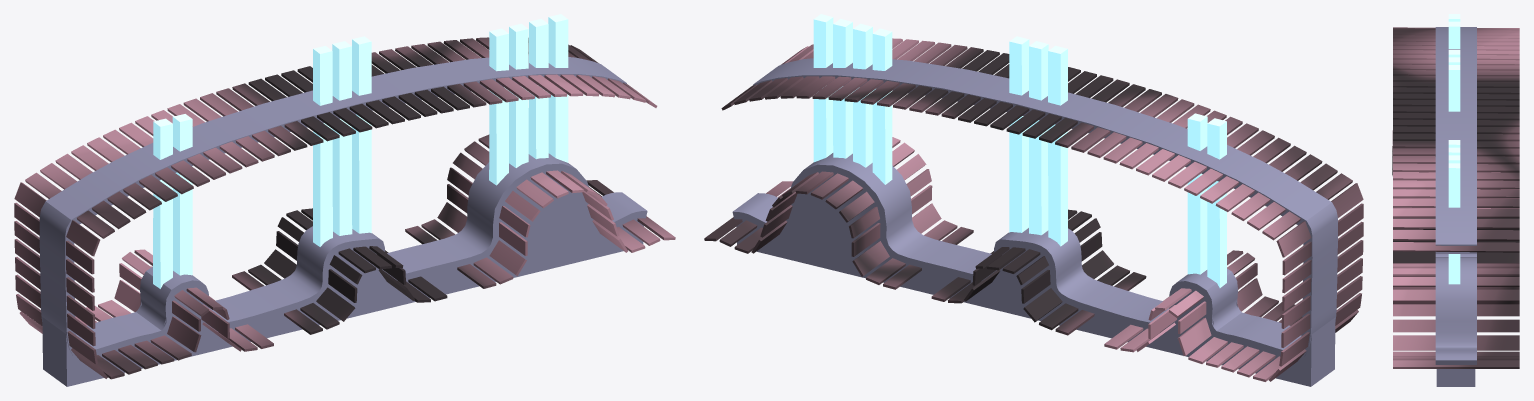
The model's file is 35ccf67b-9d81-4b89-b3f2-6b81d2c53b86.glb.
3 views of the same model, side by side, from view 1: azimuth 30°, elevation 25°; view 2: azimuth 150°, elevation 25°; view 3: azimuth 270°, elevation 25° (orthographic). The views are drawn at different scales.
Visible parts, largest first — view 1: Scorpion Bench.001; view 2: Scorpion Bench.001; view 3: Scorpion Bench.001.
Part boxes in pixels (left/top/right/bottom): Scorpion Bench.001: left=14, top=14, right=675, bottom=386; Scorpion Bench.001: left=704, top=14, right=1363, bottom=386; Scorpion Bench.001: left=1392, top=14, right=1519, bottom=386.
Size of what is drawn, in the model's own units: 9.24 by 3.99 by 2.16.
Materials: 3 (1 with a texture image).
